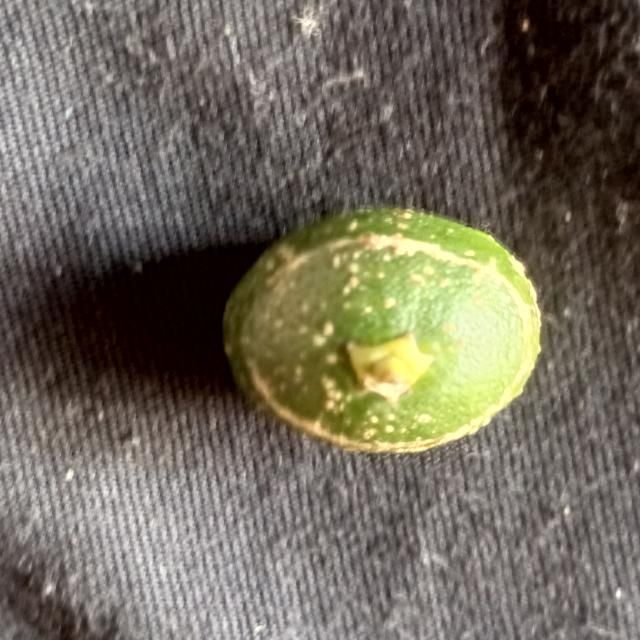scab: (225, 197, 546, 460)
